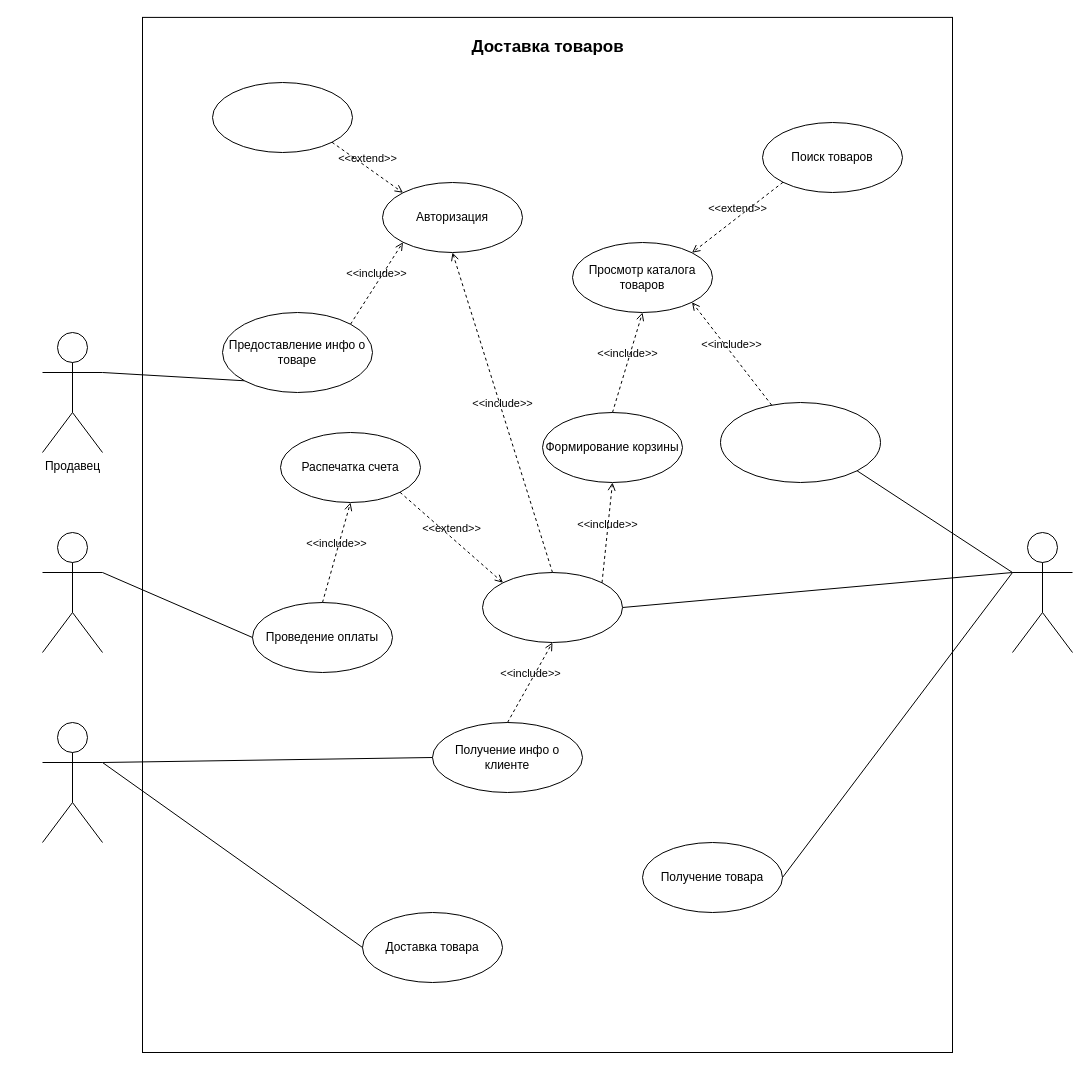
Some shapes in this 1090 by 1071 pixel diagram are drawn without their labels. Here are the shapes that lost their labels. From the top down, the centre of each, then its label:
the point at 282,117: Регистрация
the point at 800,442: Ознакомление инфо о товаре
the point at 72,592: Платежная система
the point at 552,607: Оформление заказа
the point at 1042,592: Клиент
the point at 72,782: Курьер
